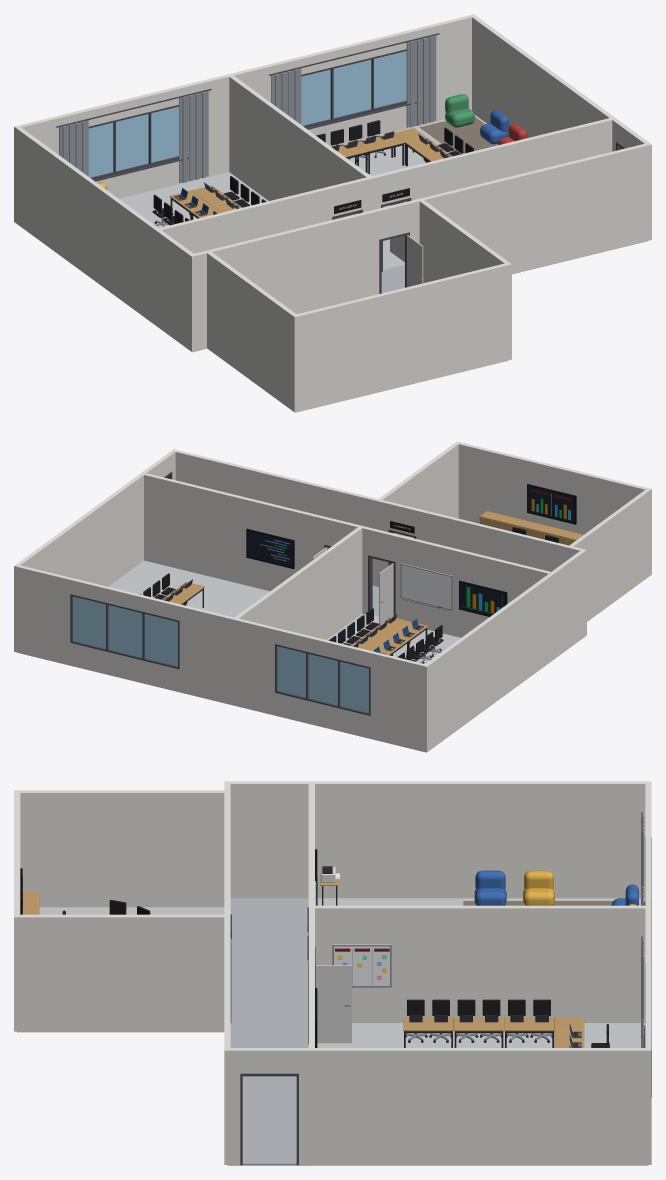
The model's file is gedung.glb.
3 views of the same model, one above another, from view 1: azimuth 30°, elevation 25°; view 2: azimuth 150°, elevation 25°; view 3: azimuth 270°, elevation 25° (orthographic). The views are drawn at different scales.
Parts seen in each view (by area): view 1: koordinator_dinding_selatan, lorong_dinding_selatan, data_science_dinding_barat, koordinator_dinding_utara, developer_dinding_barat, developer_dinding_timur, koordinator_dinding_barat, developer_dinding_selatan, developer_dinding_utara, data_science_dinding_utara, data_science_dinding_selatan, developer_jendela (+14 smaller); view 2: developer_dinding_utara, developer_dinding_selatan, data_science_dinding_utara, data_science_dinding_barat, koordinator_dinding_selatan, data_science_dinding_selatan, developer_dinding_barat, developer_dinding_timur, lorong_dinding_selatan, koordinator_dinding_barat, koordinator_dinding_utara, developer_jendela (+12 smaller); view 3: developer_dinding_timur, data_science_dinding_barat, developer_dinding_barat, koordinator_dinding_timur, koordinator_dinding_barat, lorong_lantai, lorong_dinding_barat, developer_lantai, lorong_dinding_timur, developer_pintu, kanban_developer, lorong_dinding_selatan (+14 smaller).
Boxes of the visible parts, left/top/right/bottom form: koordinator_dinding_selatan: left=292, top=262, right=511, bottom=412; lorong_dinding_selatan: left=189, top=142, right=651, bottom=351; data_science_dinding_barat: left=16, top=127, right=158, bottom=323; koordinator_dinding_utara: left=207, top=199, right=421, bottom=313; developer_dinding_barat: left=229, top=75, right=370, bottom=219; developer_dinding_timur: left=472, top=16, right=613, bottom=137; koordinator_dinding_barat: left=207, top=252, right=296, bottom=410; developer_dinding_selatan: left=369, top=117, right=616, bottom=210; developer_dinding_utara: left=229, top=14, right=476, bottom=146; data_science_dinding_utara: left=14, top=74, right=230, bottom=223; data_science_dinding_selatan: left=154, top=177, right=371, bottom=326; developer_jendela: left=301, top=49, right=416, bottom=129; developer_dinding_utara: left=14, top=564, right=235, bottom=705; developer_dinding_selatan: left=140, top=472, right=361, bottom=591; data_science_dinding_utara: left=234, top=618, right=429, bottom=752; data_science_dinding_barat: left=425, top=574, right=552, bottom=750; koordinator_dinding_selatan: left=455, top=441, right=651, bottom=575; data_science_dinding_selatan: left=360, top=526, right=555, bottom=659; developer_dinding_barat: left=235, top=527, right=362, bottom=639; developer_dinding_timur: left=17, top=474, right=143, bottom=586; lorong_dinding_selatan: left=171, top=449, right=586, bottom=636; koordinator_dinding_barat: left=569, top=489, right=649, bottom=621; koordinator_dinding_utara: left=378, top=499, right=570, bottom=586; developer_jendela: left=70, top=594, right=179, bottom=669; developer_dinding_timur: left=315, top=1048, right=645, bottom=1164; data_science_dinding_barat: left=315, top=781, right=645, bottom=898; developer_dinding_barat: left=315, top=905, right=645, bottom=1022; koordinator_dinding_timur: left=20, top=914, right=224, bottom=1031; koordinator_dinding_barat: left=20, top=790, right=224, bottom=907; lorong_lantai: left=227, top=898, right=311, bottom=1165; lorong_dinding_barat: left=230, top=781, right=308, bottom=898; developer_lantai: left=311, top=1023, right=648, bottom=1165; lorong_dinding_timur: left=230, top=1048, right=308, bottom=1164; developer_pintu: left=308, top=946, right=351, bottom=1044; kanban_developer: left=332, top=944, right=391, bottom=987; lorong_dinding_selatan: left=224, top=781, right=230, bottom=1164.
Bounding box in the file's own units: 15.17 × 3.05 × 15.16.
